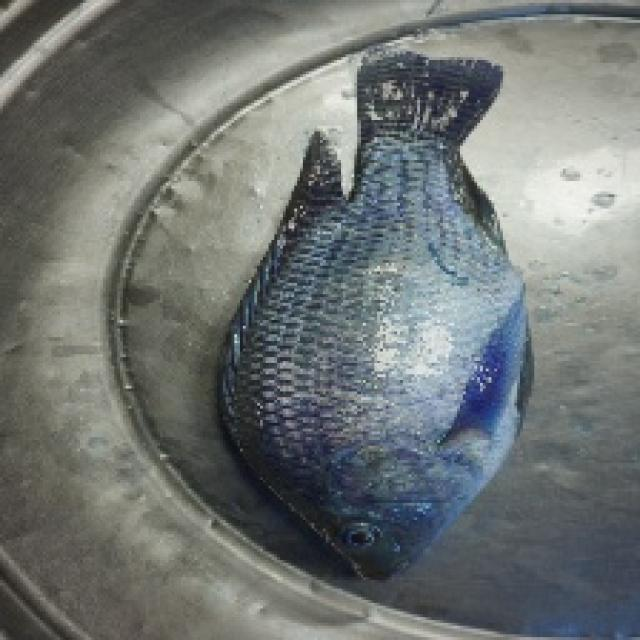Fresh: (239, 271, 522, 573)
